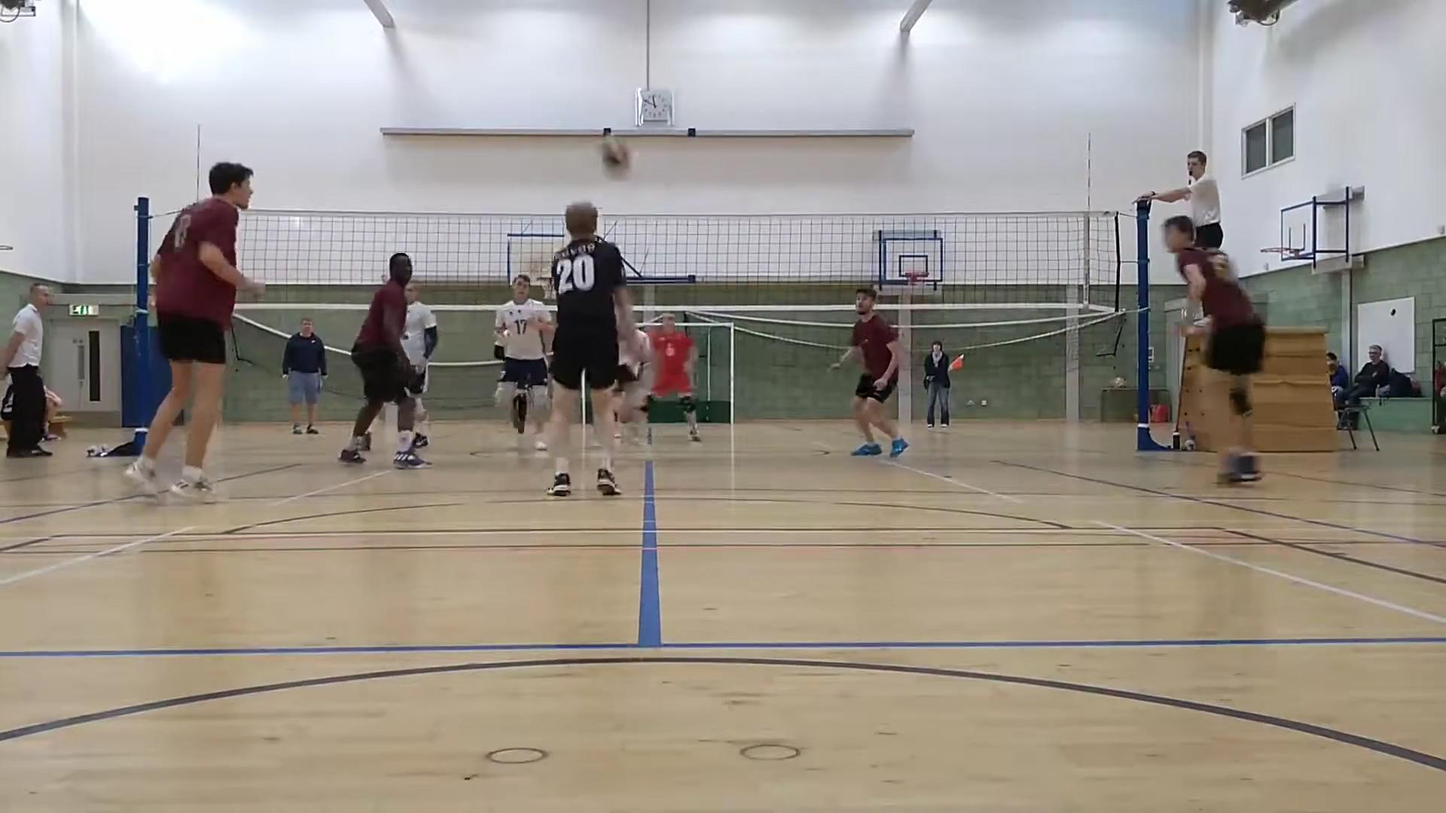Player: (125, 163, 264, 501), (1164, 215, 1264, 483), (340, 253, 429, 468), (831, 288, 908, 457), (494, 274, 551, 450), (1136, 151, 1222, 249), (651, 313, 699, 441), (402, 282, 439, 448), (402, 282, 438, 448), (614, 329, 656, 442)
Receive: (545, 196, 649, 500)
ball: (597, 137, 635, 180)
